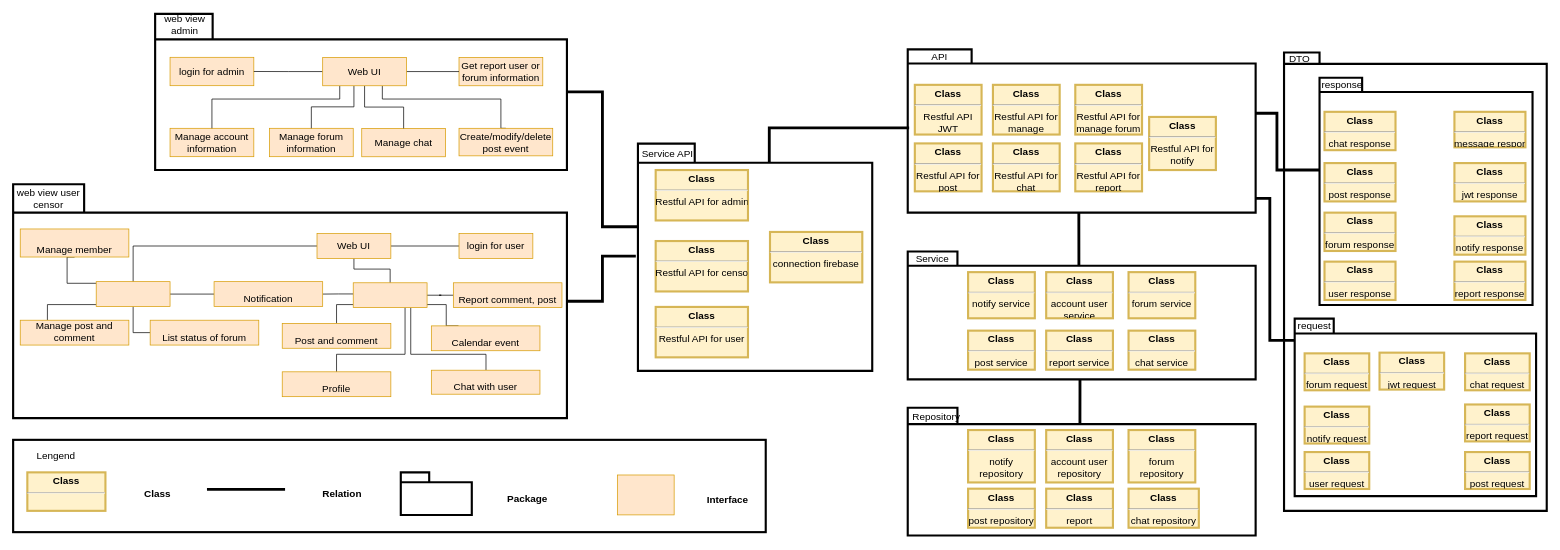
The diagram is 1560 pixels wide and 550 high, and some of its shapes have lost their labels. The shapes that lost their labels are listed below. From the top down, each one's centre as x and y in pixels, then its label:
the point at 132,294: censor page
the point at 390,295: user page
